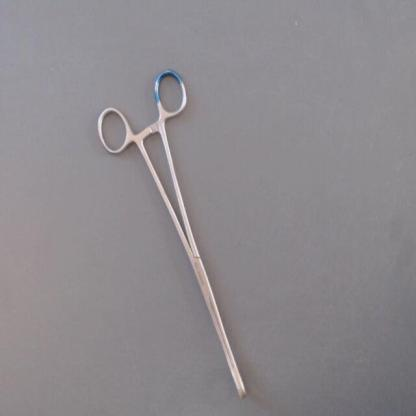Sponge Forceps: (90, 63, 257, 406)
